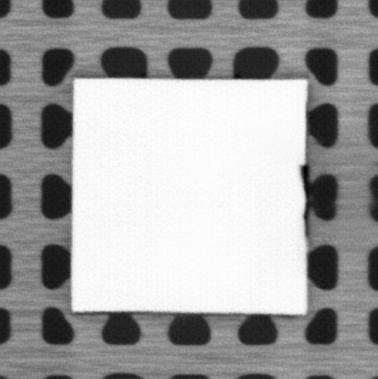DIE_BROKEN: (299, 163, 310, 237)
